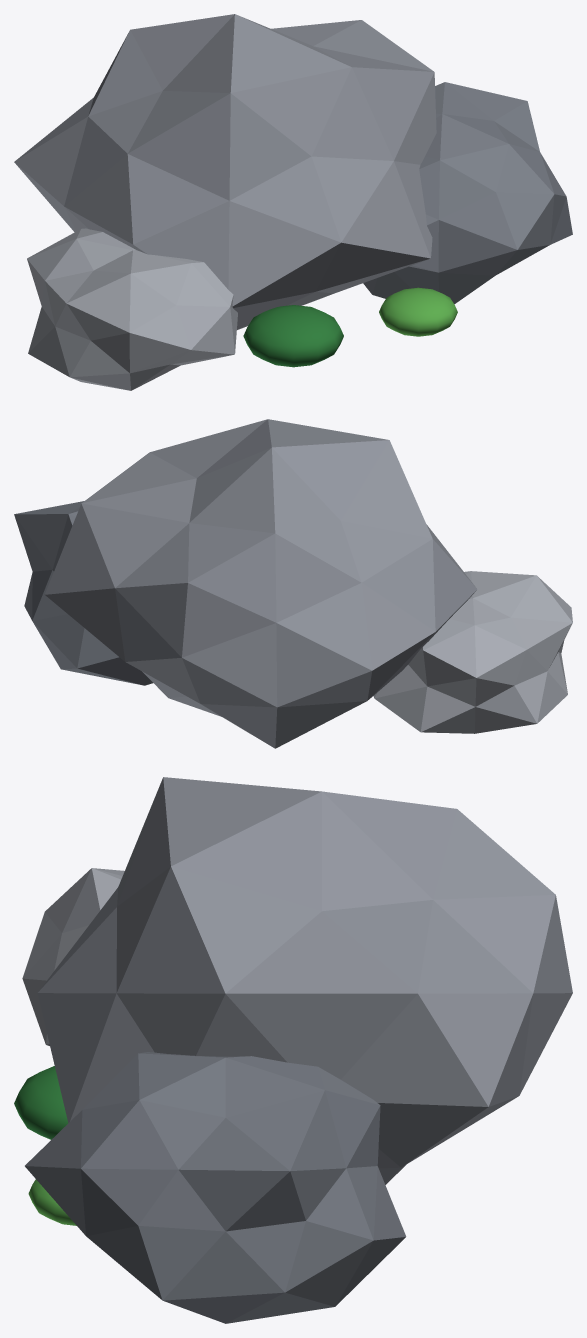
File: rock.glb
The picture shows the model from 3 angles, top to bottom: view 1: azimuth 30°, elevation 25°; view 2: azimuth 150°, elevation 25°; view 3: azimuth 270°, elevation 25°; orthographic projection. The views are drawn at different scales.
Parts seen in each view (by area): view 1: root; view 2: root; view 3: root.
Part boxes in pixels (x1,y1,x2,y2): root: (14, 14, 572, 390); root: (14, 419, 572, 748); root: (14, 777, 572, 1323).
Bounding box in the file's own units: 1.68 × 0.9183 × 1.16.
